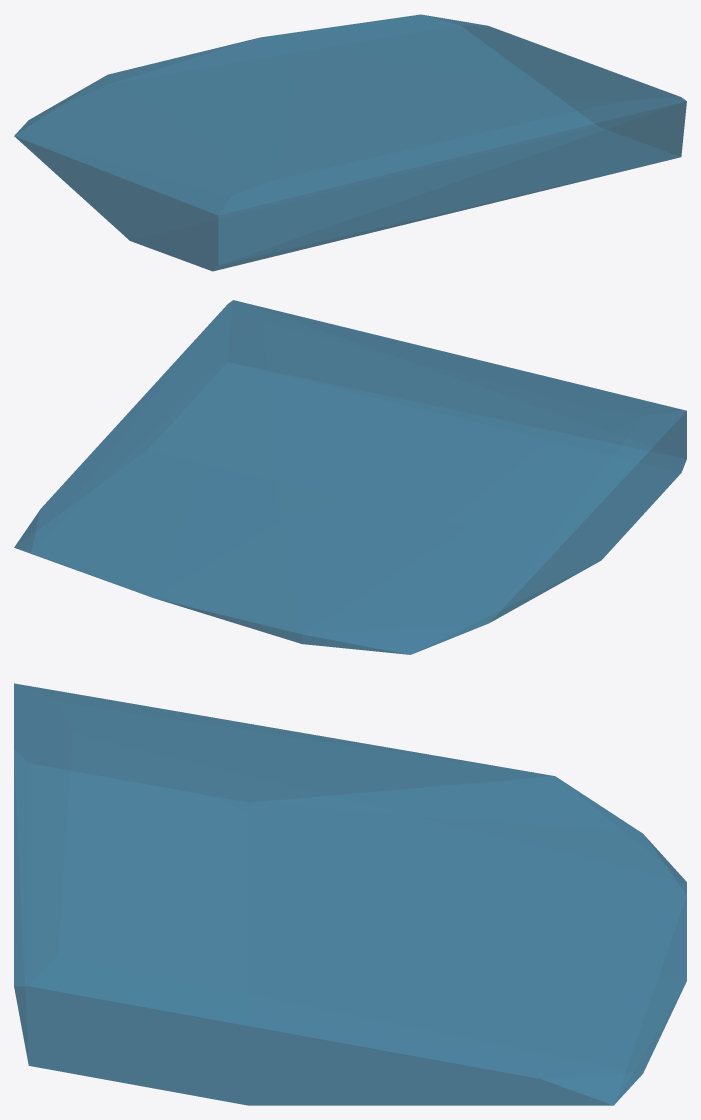
3 renders of one model, top to bottom at view 1: azimuth 30°, elevation 25°; view 2: azimuth 150°, elevation 25°; view 3: azimuth 270°, elevation 25°, orthographic. The views are drawn at different scales.
Visible parts, largest first — view 1: Shape_IndexedFaceSet.066_Shape_IndexedFaceSet.664; view 2: Shape_IndexedFaceSet.066_Shape_IndexedFaceSet.664; view 3: Shape_IndexedFaceSet.066_Shape_IndexedFaceSet.664.
Part boxes in pixels (<box>): Shape_IndexedFaceSet.066_Shape_IndexedFaceSet.664: <box>14,14,686,271</box>; Shape_IndexedFaceSet.066_Shape_IndexedFaceSet.664: <box>14,300,686,654</box>; Shape_IndexedFaceSet.066_Shape_IndexedFaceSet.664: <box>14,683,686,1105</box>.
Size of the model in its own units: 0.0913 by 0.0168 by 0.0857.
